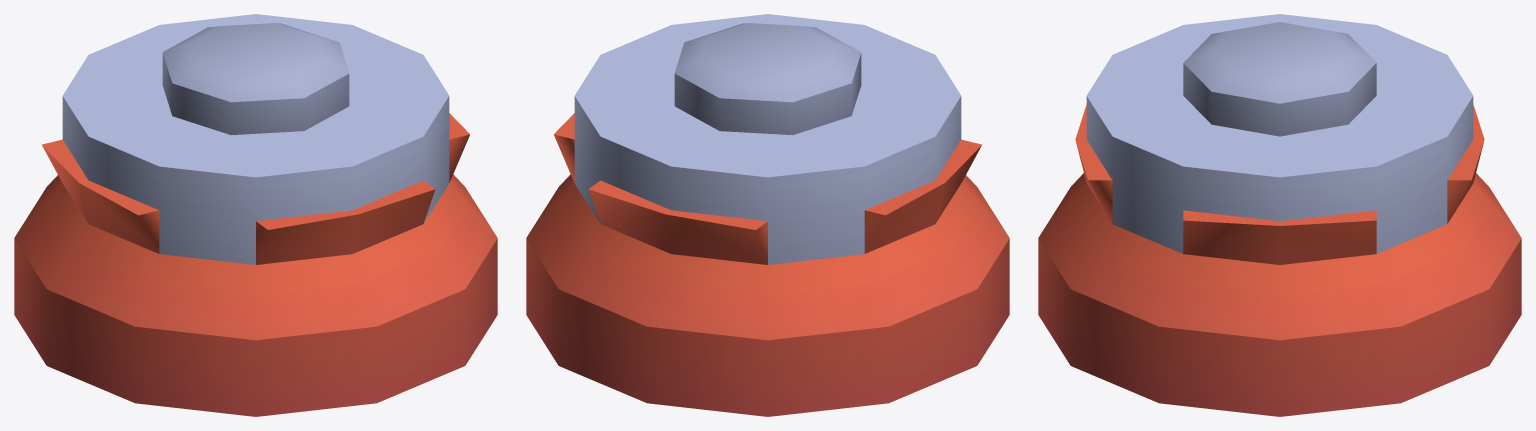
Rendered from kenney-tower-defense-tower-round-bottom-c.glb.
The picture shows the model from 3 angles, left to right: view 1: azimuth 30°, elevation 25°; view 2: azimuth 150°, elevation 25°; view 3: azimuth 270°, elevation 25°; orthographic projection.
Parts seen in each view (by area): view 1: tower-round-bottom-c; view 2: tower-round-bottom-c; view 3: tower-round-bottom-c.
Boxes of the visible parts, x1,y1,x2,y2 form: tower-round-bottom-c: (14,14,497,416); tower-round-bottom-c: (526,14,1009,416); tower-round-bottom-c: (1038,14,1521,416).
Bounding box in the file's own units: 1 × 0.6001 × 1.
1 material, 1 textured.
